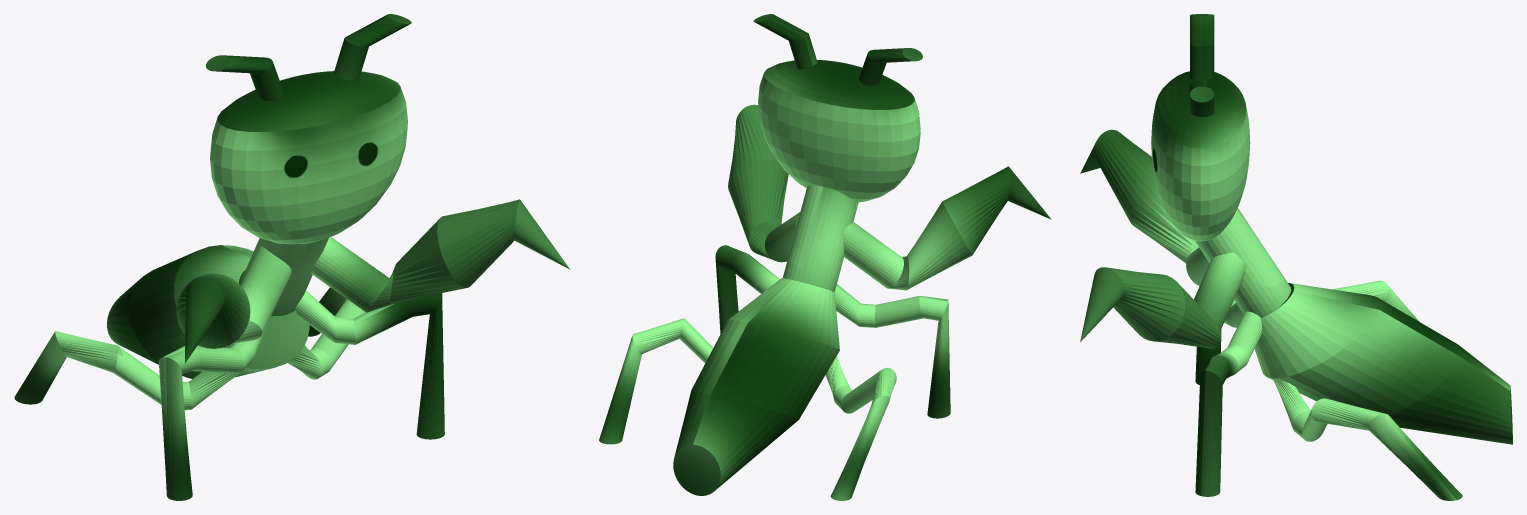
The model's file is enemy.obj.
3 views of the same model, side by side, from view 1: azimuth 30°, elevation 25°; view 2: azimuth 150°, elevation 25°; view 3: azimuth 270°, elevation 25° (orthographic). The views are drawn at different scales.
Parts seen in each view (by area): view 1: 円柱.008; view 2: 円柱.008; view 3: 円柱.008.
Boxes of the visible parts, x1,y1,x2,y2 form: 円柱.008: [14, 14, 570, 500]; 円柱.008: [599, 14, 1051, 500]; 円柱.008: [1080, 14, 1512, 500].
Size of the model in its own units: 2.02 by 2.18 by 2.19.
